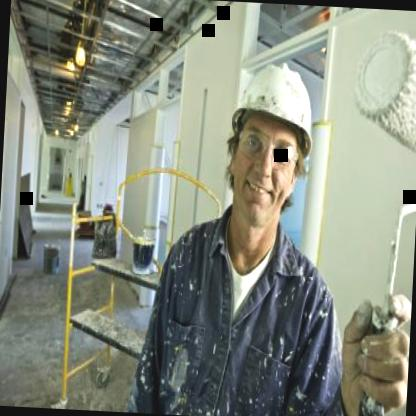helmet: (212, 34, 324, 266)
